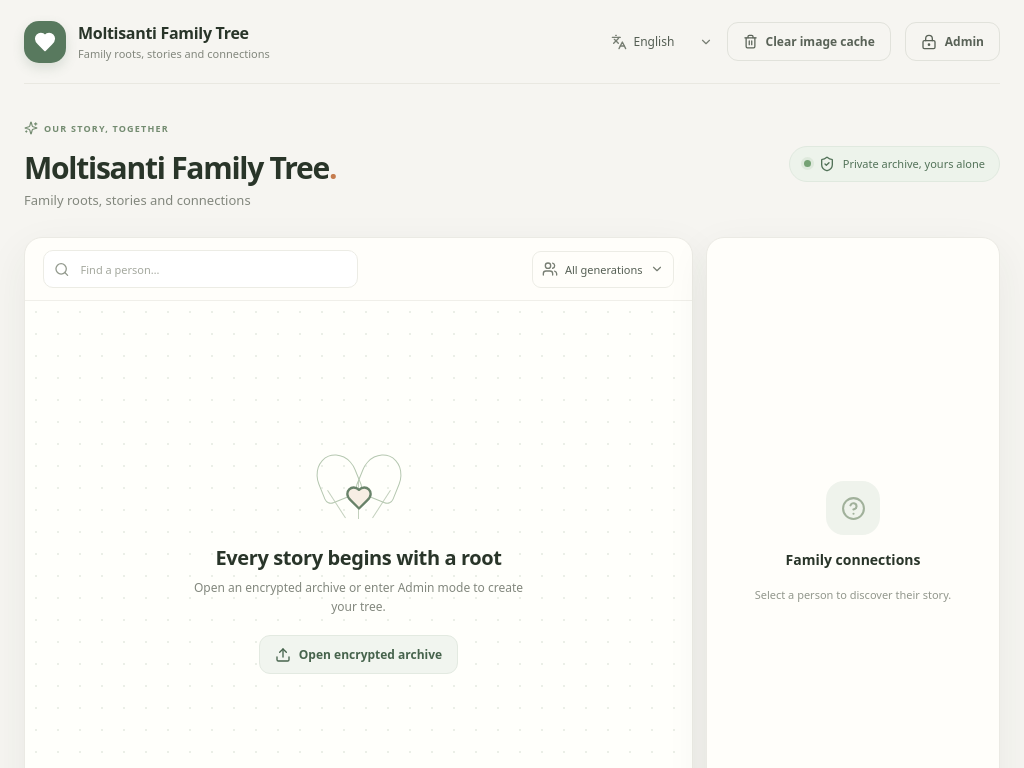
Test: family tree interface › lets an admin confirm and download a GEDZIP 7.0 package
The image size is (1024, 768).
Click the button "Admin" at (952, 42), box [905, 22, 1000, 61]
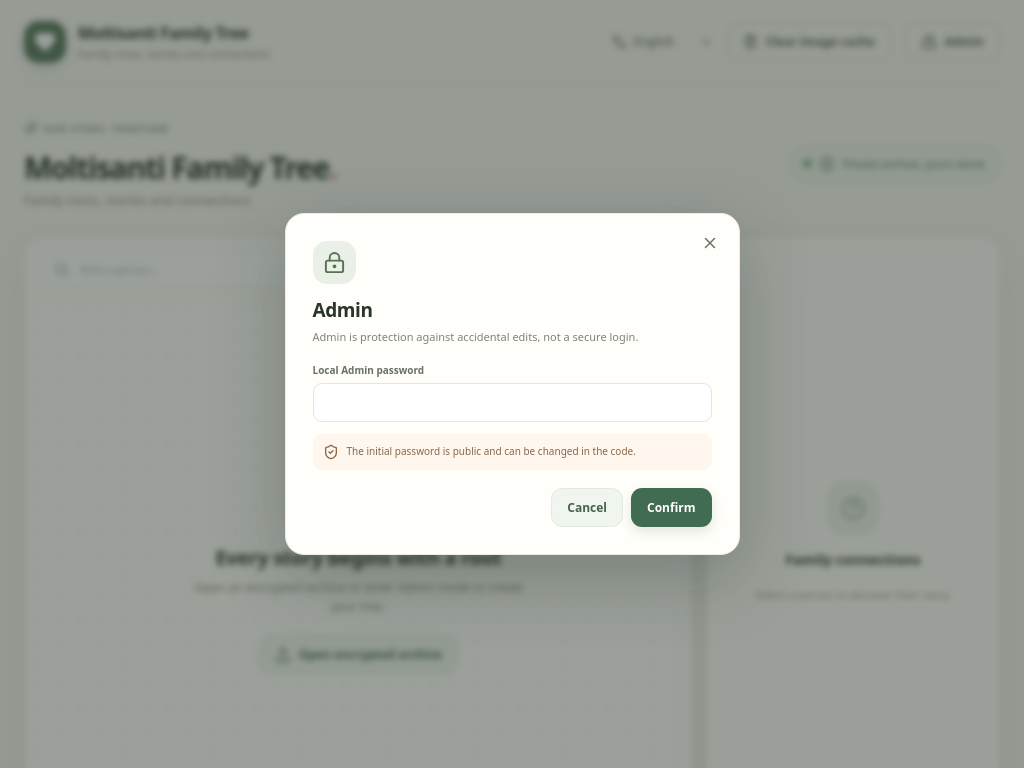
Type "moltisantitree" into the password field labelled "Local Admin password" at (512, 402), box [312, 383, 712, 422]
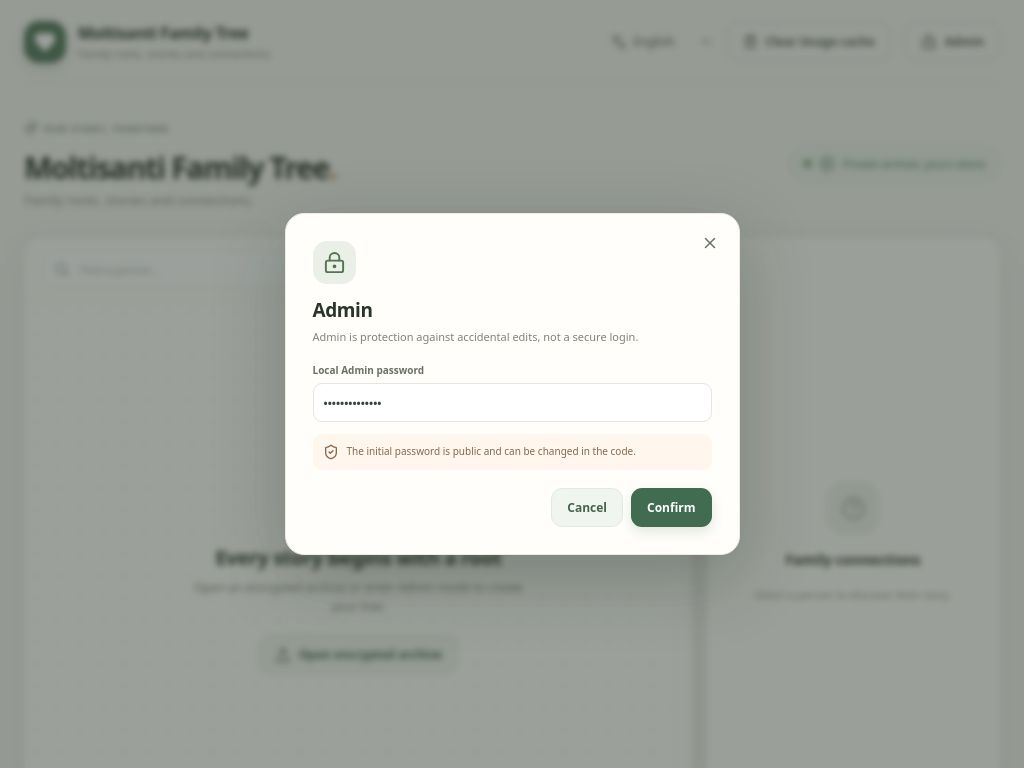
Click the button "Confirm" at (671, 507), box [631, 488, 712, 527]
(page scrolled)
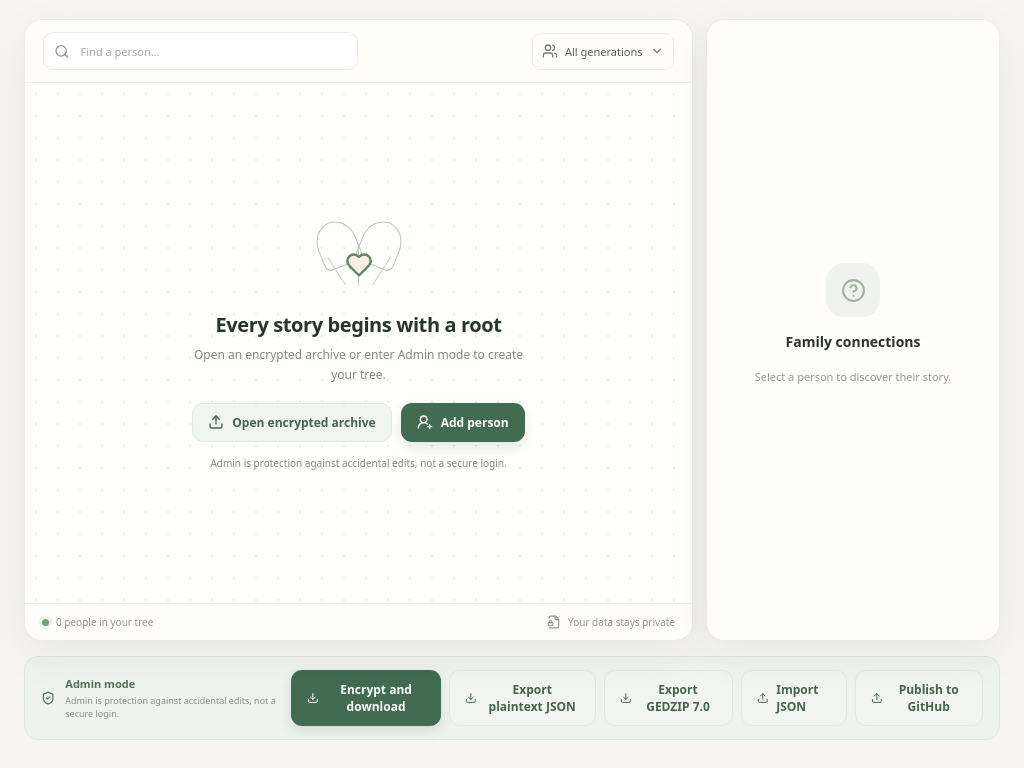
Click the button "Export GEDZIP 7.0" at (668, 698), box [604, 670, 733, 726]
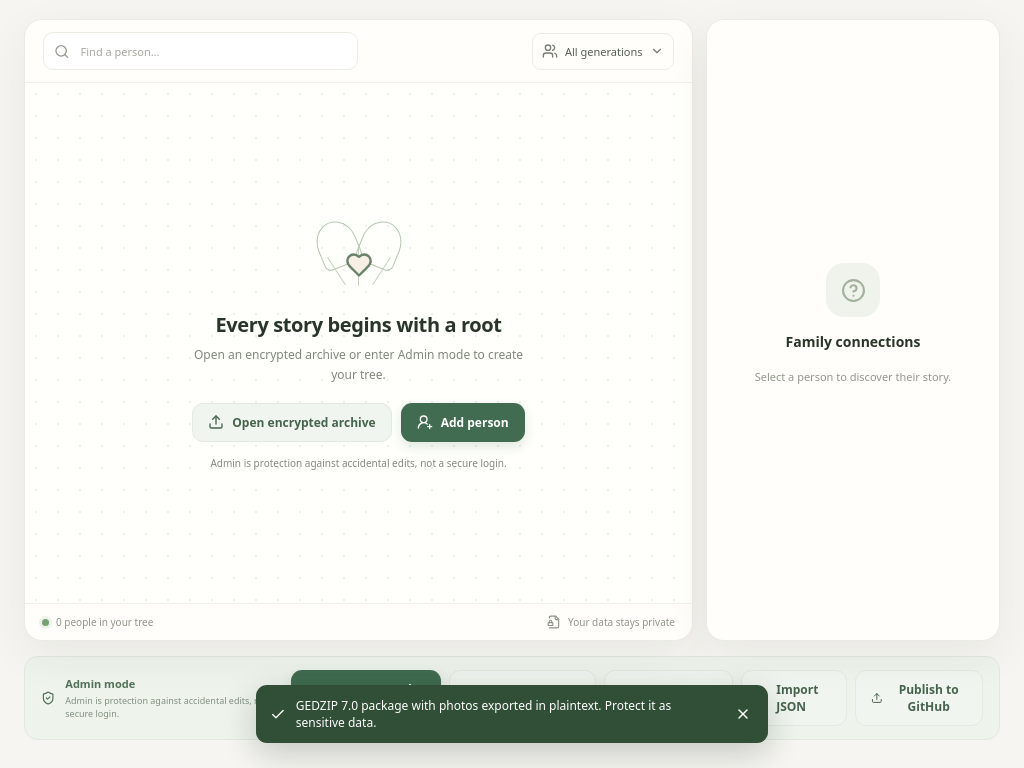
Now the message shows "GEDZIP 7.0 package with photos exported in plaintext.", box [296, 697, 671, 731]
